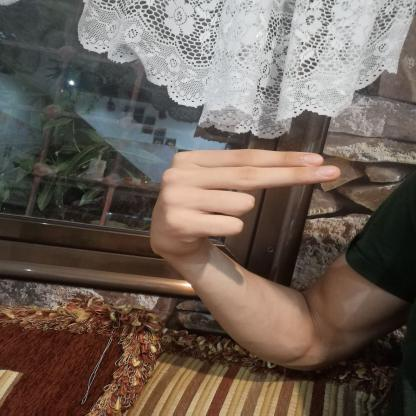AYN: (128, 136, 353, 264)
